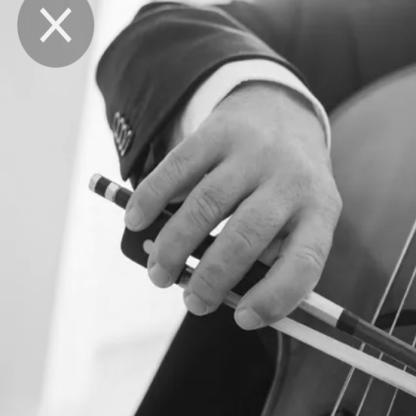good: (122, 79, 344, 339)
